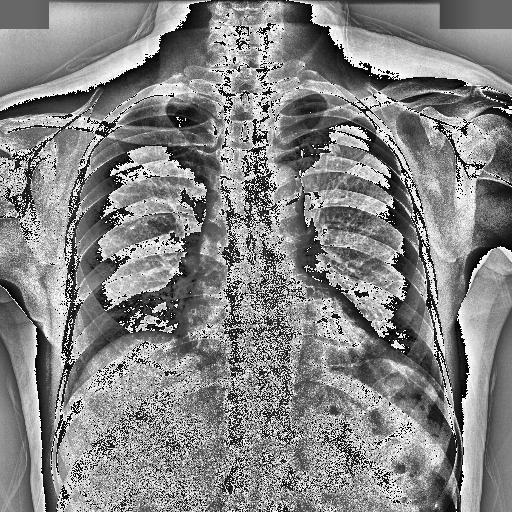0- Aortic enlargement: (197, 160, 304, 265), (256, 164, 303, 204)
10- Pleural effusion: (148, 95, 188, 107)
11- Pleural thickening: (157, 94, 198, 108)
3- Cardiomegaly: (177, 298, 385, 364), (178, 300, 374, 362), (180, 310, 382, 354)
